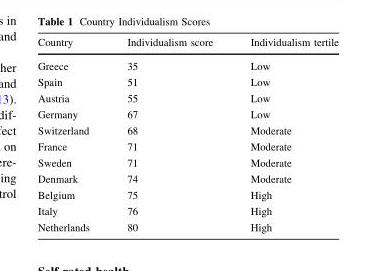table: (37, 37, 338, 232)
table column: (107, 37, 230, 232), (230, 37, 338, 232), (37, 37, 107, 232)
table column header: (37, 37, 338, 54)
table row: (37, 54, 338, 74), (37, 37, 338, 54), (37, 154, 338, 171), (37, 74, 338, 90), (37, 90, 338, 106), (37, 106, 338, 122), (37, 122, 338, 138), (37, 138, 338, 154), (37, 171, 338, 187), (37, 187, 338, 203), (37, 203, 338, 219), (37, 219, 338, 232)
